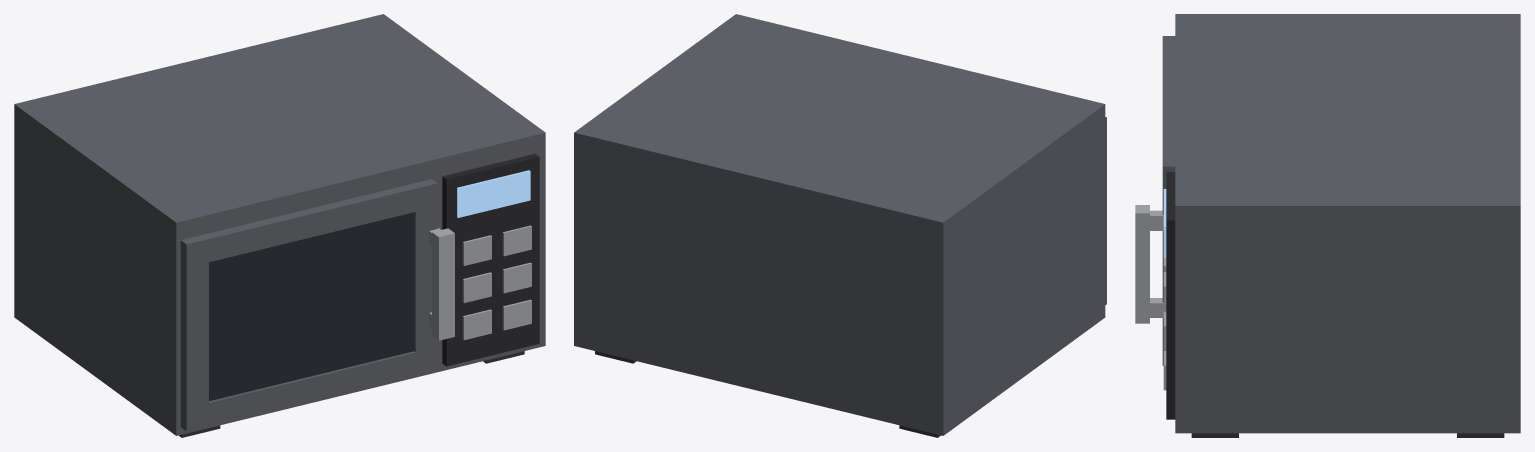
Rendered from FN_Appliance_Microwave.glb.
The picture shows the model from 3 angles, left to right: view 1: azimuth 30°, elevation 25°; view 2: azimuth 150°, elevation 25°; view 3: azimuth 270°, elevation 25°; orthographic projection. The views are drawn at different scales.
Visible parts, largest first — view 1: FN_Appliance_Microwave; view 2: FN_Appliance_Microwave; view 3: FN_Appliance_Microwave.
Part boxes in pixels (box(x1,y1,x2,y2)): FN_Appliance_Microwave: box(14, 14, 545, 437); FN_Appliance_Microwave: box(574, 14, 1106, 437); FN_Appliance_Microwave: box(1135, 14, 1520, 437).
Bounding box in the file's own units: 0.5 × 0.29 × 0.424.
2 materials, 2 textured.
